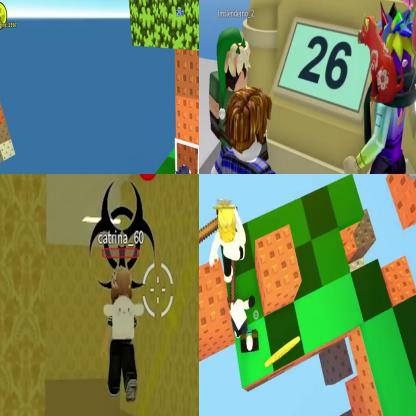Roblox-Avatar: (343, 1, 416, 174), (204, 87, 288, 174), (101, 266, 145, 403), (210, 28, 253, 152), (211, 199, 247, 283), (241, 330, 260, 354)
